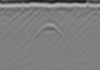hyperbola: (26, 20, 76, 58)
